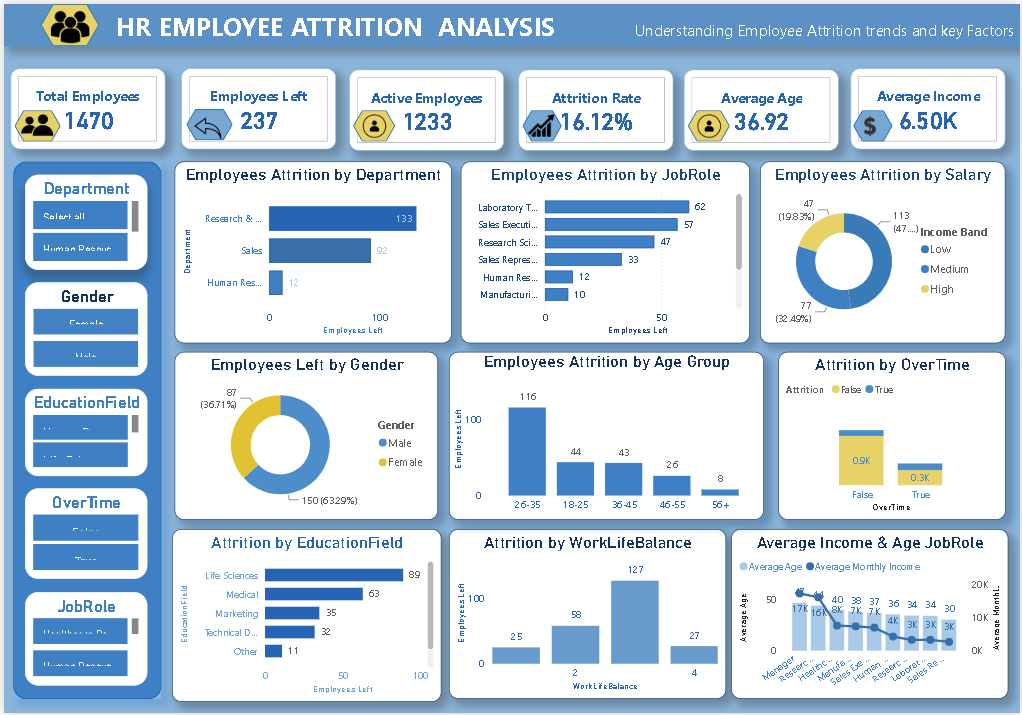

Layout of this report page (visuals, bound fields, positions):
{"tool":"powerbi","page":{"name":"Page 1","canvas":[1291,900],"ordinal":0},"visuals":[{"type":"shape","box":[11.5,200,188.5,682.7],"z":0},{"type":"cardVisual","fields":{"Data":["HR-EmployeeAttrition.Total Employees"]},"box":[7.9,81,196.8,103.2],"z":1000},{"type":"cardVisual","fields":{"Data":["HR-EmployeeAttrition.Employees Left"]},"box":[225.4,81,196.8,103.2],"z":2000},{"type":"cardVisual","fields":{"Data":["HR-EmployeeAttrition.Active Employees"]},"box":[438,82.6,196.8,103.2],"z":3000},{"type":"cardVisual","fields":{"Data":["HR-EmployeeAttrition.Attrition Rate"]},"box":[653.9,82.6,196.8,103.2],"z":4000},{"type":"cardVisual","fields":{"Data":["HR-EmployeeAttrition.Average Age"]},"box":[863.4,82.6,196.8,103.2],"z":5000},{"type":"cardVisual","fields":{"Data":["HR-EmployeeAttrition.Average Monthly Income"]},"box":[1074.6,81,196.8,103.2],"z":6000},{"type":"clusteredBarChart","title":"Employees Attrition by Department","fields":{"Y":["HR-EmployeeAttrition.Employees Left"],"Category":["HR-EmployeeAttrition.Department"]},"box":[217.3,200,351.9,230.8],"z":7000},{"type":"clusteredBarChart","title":"Employees  Attrition by JobRole","fields":{"Y":["HR-EmployeeAttrition.Employees Left"],"Category":["HR-EmployeeAttrition.JobRole"]},"box":[580.8,200,367.3,230.8],"z":8000},{"type":"donutChart","fields":{"Category":["HR-EmployeeAttrition.Gender"],"Y":["HR-EmployeeAttrition.Employees Left"]},"box":[217.3,442.3,334.6,213.5],"z":9000},{"type":"donutChart","title":"Employees Attrition by Salary ","fields":{"Category":["HR-EmployeeAttrition.Income Band"],"Y":["HR-EmployeeAttrition.Employees Left"]},"box":[959.6,200,311.5,230.8],"z":10000},{"type":"lineStackedColumnComboChart","title":"Attrition  by OverTime ","fields":{"Category":["HR-EmployeeAttrition.OverTime"],"Y":["CountNonNull(HR-EmployeeAttrition.EmployeeNumber)"],"Series":["HR-EmployeeAttrition.Attrition"]},"box":[982.7,442.3,288.5,213.5],"z":11000},{"type":"clusteredBarChart","title":"Attrition by EducationField","fields":{"Category":["HR-EmployeeAttrition.EducationField"],"Y":["HR-EmployeeAttrition.Employees Left"]},"box":[213.5,667.3,342.3,219.2],"z":12000},{"type":"clusteredColumnChart","title":"Attrition by WorkLifeBalance","fields":{"Y":["HR-EmployeeAttrition.Employees Left"],"Category":["HR-EmployeeAttrition.WorkLifeBalance"]},"box":[565.4,667.3,351.9,215.4],"z":13000},{"type":"lineStackedColumnComboChart","title":"Average Income & Age  JobRole","fields":{"Category":["HR-EmployeeAttrition.JobRole"],"Y":["HR-EmployeeAttrition.Average Age"],"Y2":["HR-EmployeeAttrition.Average Monthly Income"]},"box":[923.1,667.3,351.9,215.4],"z":14000},{"type":"textbox","box":[0,0,1290.4,53.8],"z":15000},{"type":"clusteredColumnChart","title":"Employees Attrition by Age Group","fields":{"Category":["HR-EmployeeAttrition.Age Group"],"Y":["HR-EmployeeAttrition.Employees Left"]},"box":[565.4,442.3,400,213.5],"z":16000},{"type":"advancedSlicerVisual","fields":{"Values":["HR-EmployeeAttrition.Department"]},"box":[26.9,217.3,155.8,121.2],"z":17000},{"type":"advancedSlicerVisual","fields":{"Values":["HR-EmployeeAttrition.Gender"]},"box":[26.9,353.8,155.8,119.2],"z":18000},{"type":"advancedSlicerVisual","fields":{"Values":["HR-EmployeeAttrition.JobRole"]},"box":[26.9,746.2,155.8,119.2],"z":19000},{"type":"advancedSlicerVisual","fields":{"Values":["HR-EmployeeAttrition.OverTime"]},"box":[26.9,615.4,155.8,115.4],"z":20000},{"type":"advancedSlicerVisual","fields":{"Values":["HR-EmployeeAttrition.EducationField"]},"box":[26.9,488.5,155.8,111.5],"z":21000},{"type":"shape","box":[13.8,134.5,58.6,39.7],"z":21001},{"type":"shape","box":[46.6,0,74.1,53.4],"z":21002},{"type":"shape","box":[443.1,134.5,53.4,39.7],"z":21003},{"type":"shape","box":[231,132.8,58.6,39.7],"z":21004},{"type":"shape","box":[869,134.5,53.4,39.7],"z":21005},{"type":"shape","box":[658.6,134.5,50,39.7],"z":21006},{"type":"shape","box":[1077.6,134.5,50,39.7],"z":21007},{"type":"image","box":[0,122.4,84.5,63.8],"z":21008},{"type":"image","box":[1072.4,134.5,55.2,39.7],"z":21009},{"type":"image","box":[655.2,132.8,53.4,41.4],"z":21010},{"type":"image","box":[434.5,132.8,70.7,43.1],"z":21011},{"type":"image","box":[225.9,134.5,63.8,44.8],"z":21012},{"type":"image","box":[46.6,0,74.1,58.6],"z":21013},{"type":"image","box":[860.3,132.8,70.7,43.1],"z":21014}]}

Visuals, with their boxes in screenshot pixels (x1, y1, x2, y2), scaled from the page's 1291x900 canvas onto the 1022x715 screenshot:
shape: x1=9, y1=159, x2=158, y2=701
cardVisual - HR-EmployeeAttrition.Total Employees: x1=6, y1=64, x2=162, y2=146
cardVisual - HR-EmployeeAttrition.Employees Left: x1=178, y1=64, x2=334, y2=146
cardVisual - HR-EmployeeAttrition.Active Employees: x1=347, y1=66, x2=503, y2=148
cardVisual - HR-EmployeeAttrition.Attrition Rate: x1=518, y1=66, x2=673, y2=148
cardVisual - HR-EmployeeAttrition.Average Age: x1=683, y1=66, x2=839, y2=148
cardVisual - HR-EmployeeAttrition.Average Monthly Income: x1=851, y1=64, x2=1006, y2=146
"Employees Attrition by Department" clusteredBarChart: x1=172, y1=159, x2=451, y2=342
"Employees  Attrition by JobRole" clusteredBarChart: x1=460, y1=159, x2=751, y2=342
donutChart - HR-EmployeeAttrition.Gender x HR-EmployeeAttrition.Employees Left: x1=172, y1=351, x2=437, y2=521
"Employees Attrition by Salary " donutChart: x1=760, y1=159, x2=1006, y2=342
"Attrition  by OverTime " lineStackedColumnComboChart: x1=778, y1=351, x2=1006, y2=521
"Attrition by EducationField" clusteredBarChart: x1=169, y1=530, x2=440, y2=704
"Attrition by WorkLifeBalance" clusteredColumnChart: x1=448, y1=530, x2=726, y2=701
"Average Income & Age  JobRole" lineStackedColumnComboChart: x1=731, y1=530, x2=1009, y2=701
textbox: x1=0, y1=0, x2=1021, y2=43
"Employees Attrition by Age Group" clusteredColumnChart: x1=448, y1=351, x2=764, y2=521
advancedSlicerVisual - HR-EmployeeAttrition.Department: x1=21, y1=173, x2=145, y2=269
advancedSlicerVisual - HR-EmployeeAttrition.Gender: x1=21, y1=281, x2=145, y2=376
advancedSlicerVisual - HR-EmployeeAttrition.JobRole: x1=21, y1=593, x2=145, y2=688
advancedSlicerVisual - HR-EmployeeAttrition.OverTime: x1=21, y1=489, x2=145, y2=581
advancedSlicerVisual - HR-EmployeeAttrition.EducationField: x1=21, y1=388, x2=145, y2=477
shape: x1=11, y1=107, x2=57, y2=138
shape: x1=37, y1=0, x2=96, y2=42
shape: x1=351, y1=107, x2=393, y2=138
shape: x1=183, y1=106, x2=229, y2=137
shape: x1=688, y1=107, x2=730, y2=138
shape: x1=521, y1=107, x2=561, y2=138
shape: x1=853, y1=107, x2=893, y2=138
image: x1=0, y1=97, x2=67, y2=148
image: x1=849, y1=107, x2=893, y2=138
image: x1=519, y1=106, x2=561, y2=138
image: x1=344, y1=106, x2=400, y2=140
image: x1=179, y1=107, x2=229, y2=142
image: x1=37, y1=0, x2=96, y2=47
image: x1=681, y1=106, x2=737, y2=140
